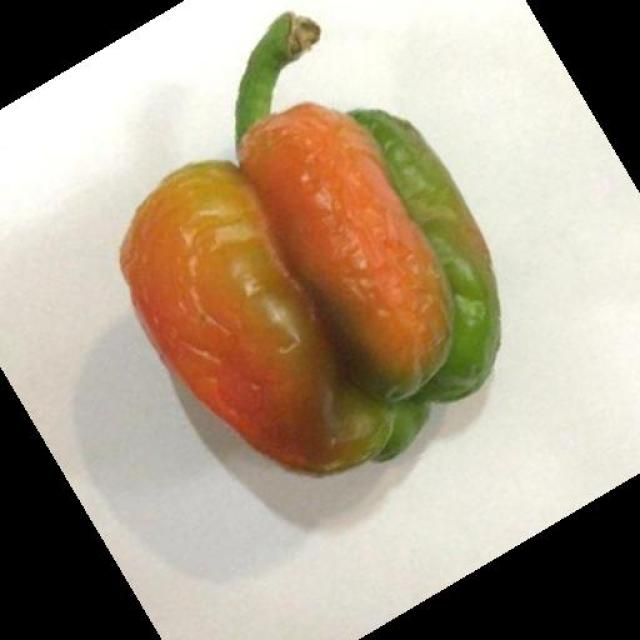Stale_Capsicum: (120, 82, 556, 466)
